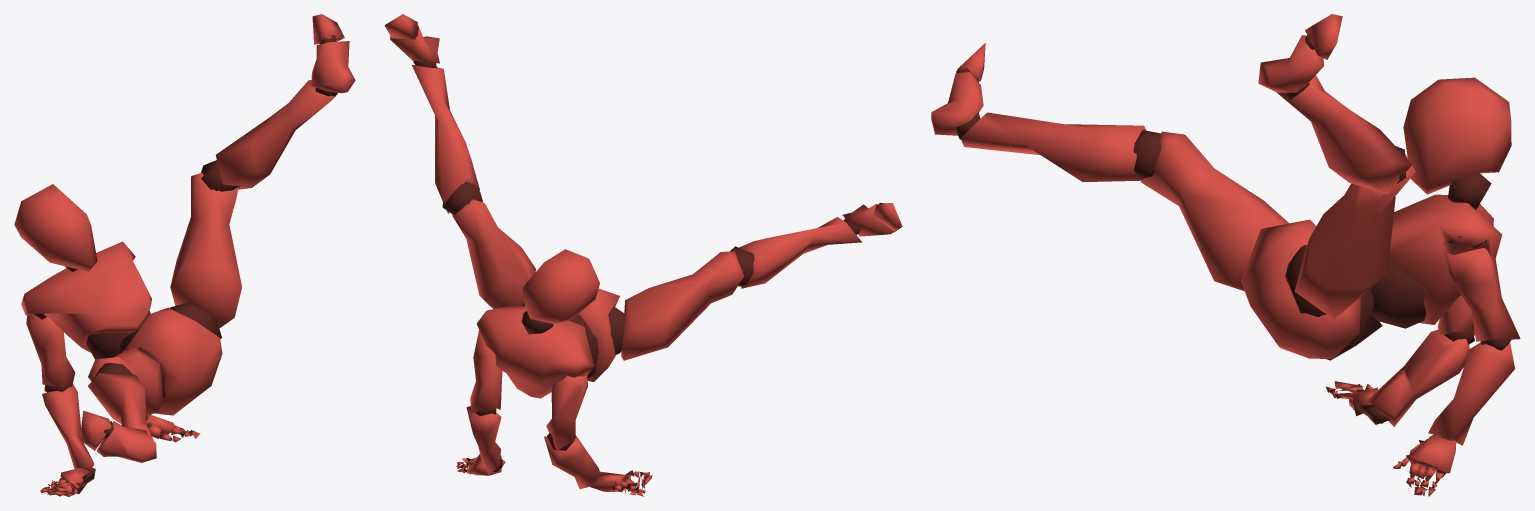
3 renders of one model, left to right at view 1: azimuth 30°, elevation 25°; view 2: azimuth 150°, elevation 25°; view 3: azimuth 270°, elevation 25°, orthographic. The views are drawn at different scales.
Parts seen in each view (by area): view 1: Beta_Surface; view 2: Beta_Surface; view 3: Beta_Surface.
Part boxes in pixels (x1,y1,x2,y2): Beta_Surface: (14,14,355,496); Beta_Surface: (384,14,902,496); Beta_Surface: (931,14,1520,496).
Bounding box in the file's own units: 13.72 × 14.07 × 13.74.
